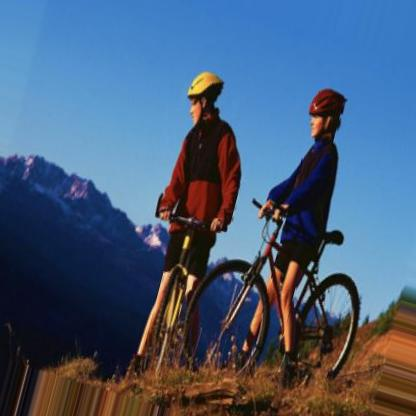with helmet: (306, 85, 349, 140), (188, 72, 223, 125)
